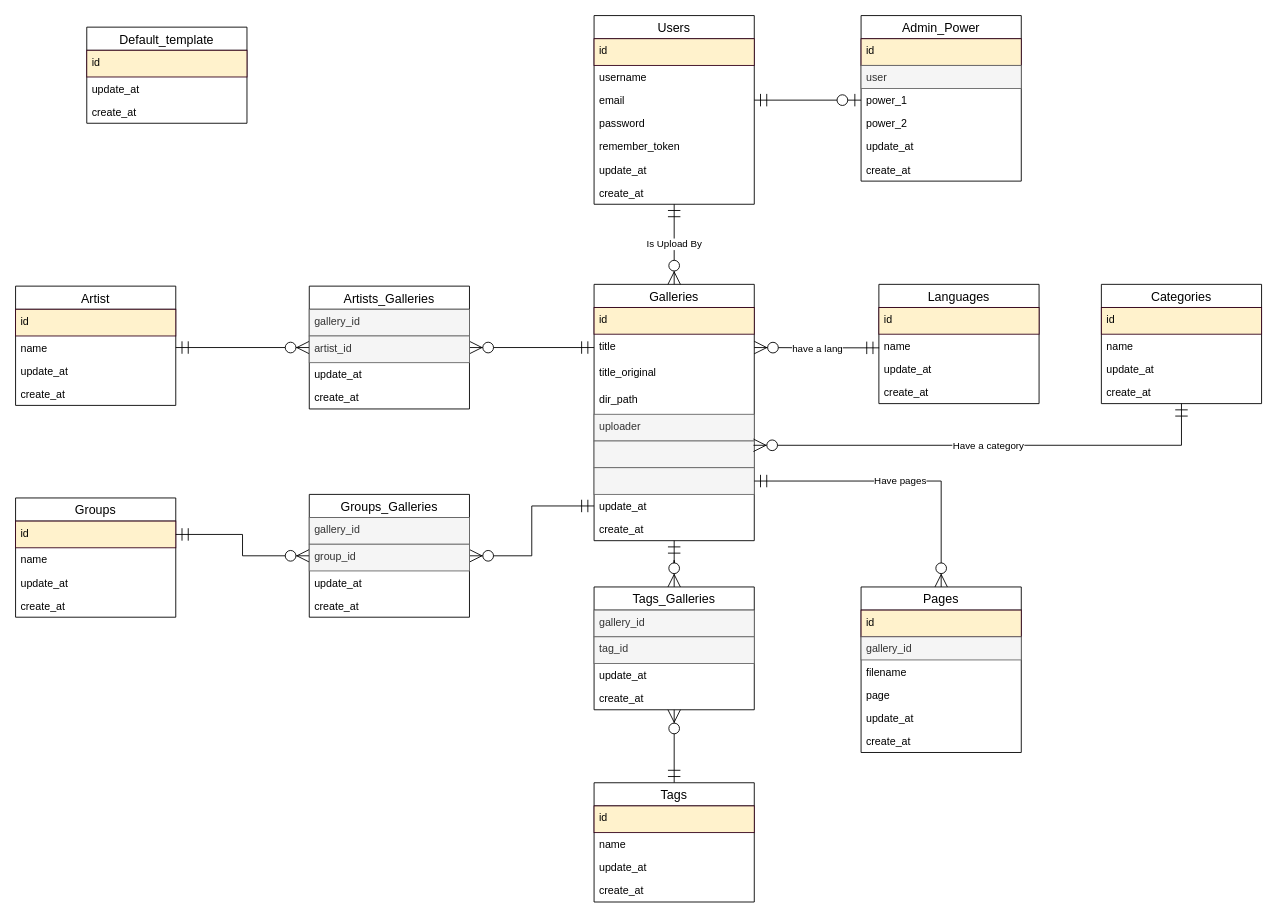
The diagram is 1277 pixels wide and 920 high, and some of its shapes have lost their labels. Each missing label, with the centre of its shape:
"category" goes at [673,454].
"language" goes at [673,480].
